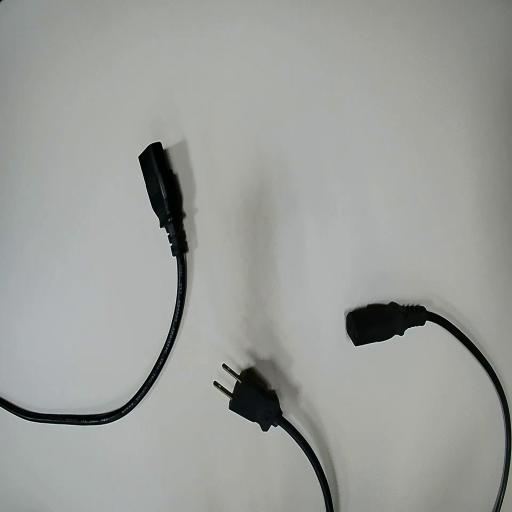wire: (0, 143, 187, 423), (347, 302, 511, 511), (220, 368, 333, 511)
